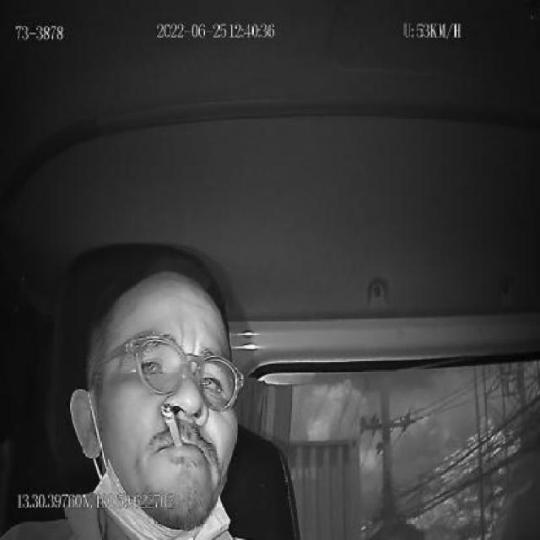smoking: (161, 401, 183, 448)
